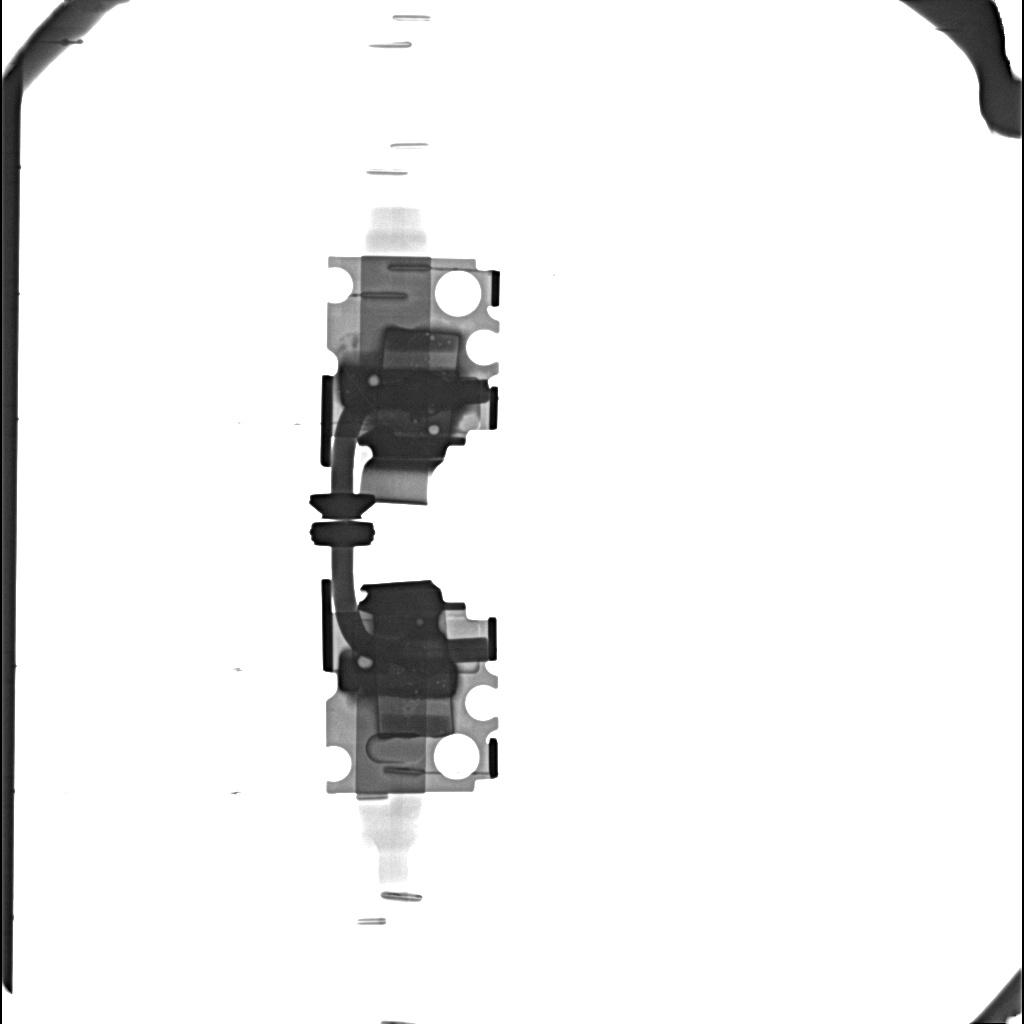PX: (380, 327, 461, 370), (376, 697, 455, 739)
QP: (428, 425, 439, 436)
SX: (339, 651, 457, 698), (341, 366, 464, 410)
